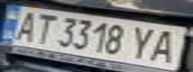1: (87, 20, 109, 54)
3: (51, 15, 78, 48), (69, 18, 93, 52)
8: (103, 21, 130, 56)
A: (145, 27, 187, 64), (6, 8, 42, 42)
T: (27, 11, 60, 45)
Y: (127, 24, 163, 61)
